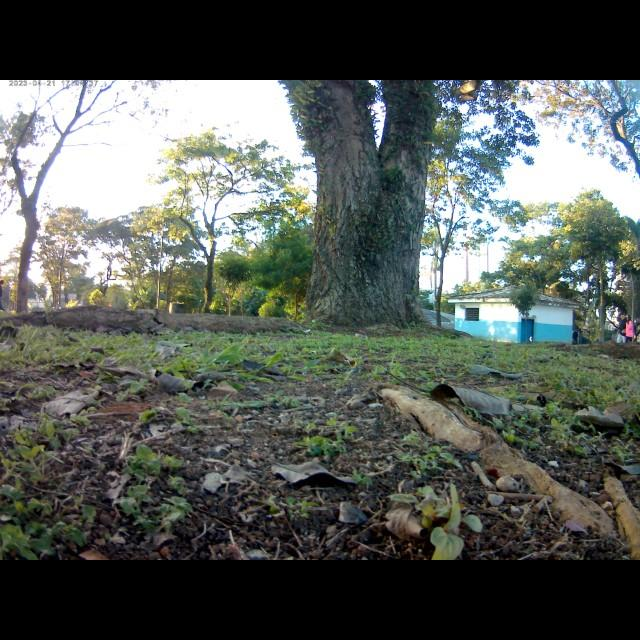arvore: (265, 80, 433, 334)
